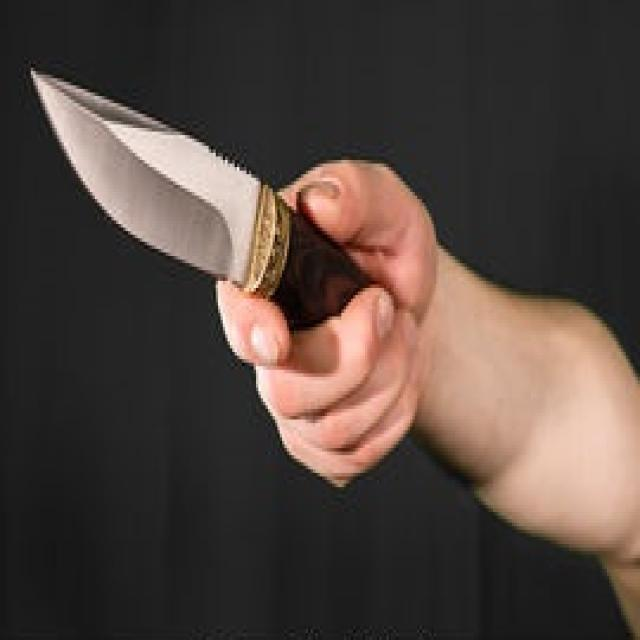knife: (25, 52, 306, 318)
